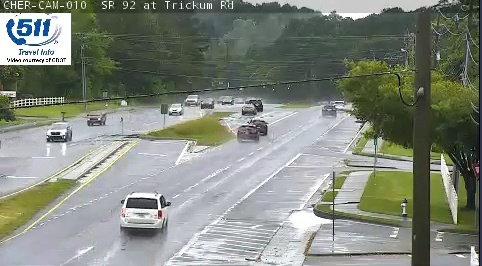car: (120, 193, 168, 227), (237, 125, 259, 140), (248, 120, 268, 136)
